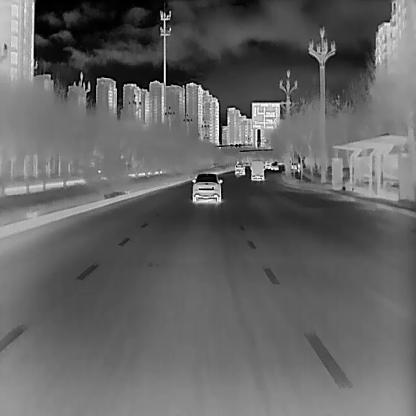car: (191, 172, 223, 203), (249, 158, 265, 179), (233, 159, 245, 174), (270, 162, 278, 170)
